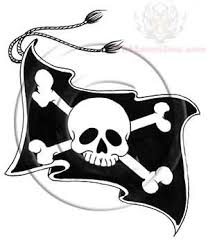Jolly Roger Flag: (9, 39, 201, 237)
